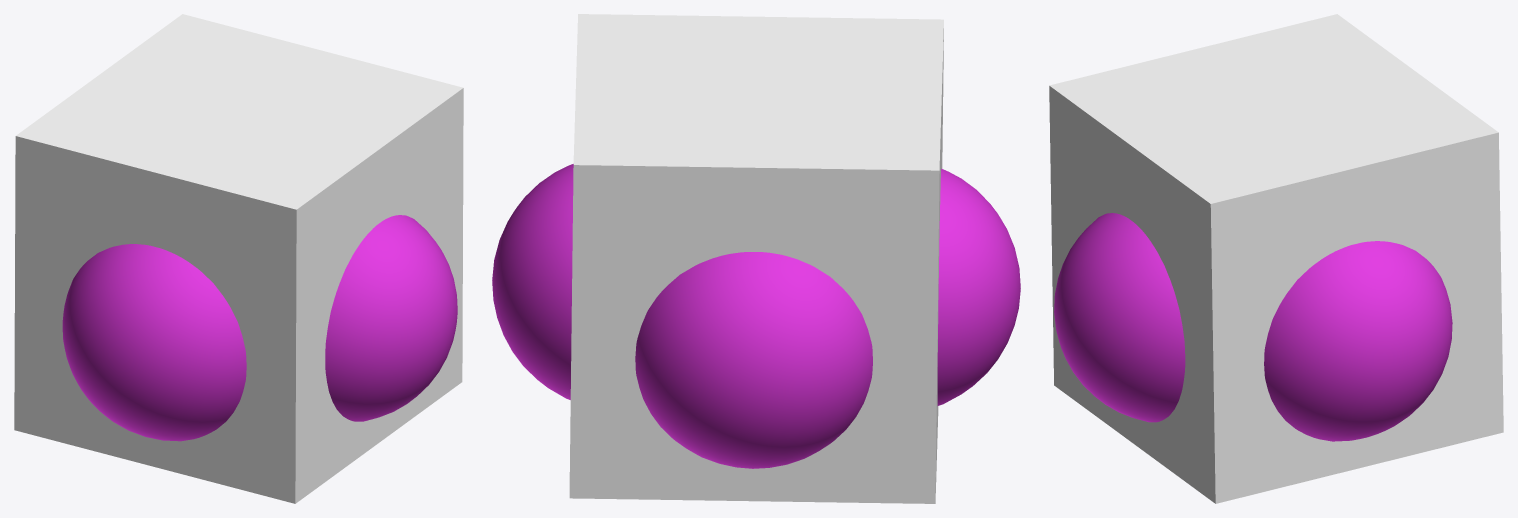
Rendered from xxx.glb.
The picture shows the model from 3 angles, left to right: view 1: azimuth 30°, elevation 25°; view 2: azimuth 150°, elevation 25°; view 3: azimuth 270°, elevation 25°; orthographic projection. The views are drawn at different scales.
Parts seen in each view (by area): view 1: 立方体, 棱角球, 棱角球.003; view 2: 立方体, 棱角球.001, 棱角球, 棱角球.002; view 3: 立方体, 棱角球.002, 棱角球.003.
Boxes of the visible parts, x1=… form: 立方体: x1=14, y1=14, x2=463, y2=503; 棱角球: x1=62, y1=244, x2=246, y2=441; 棱角球.003: x1=325, y1=215, x2=457, y2=421; 立方体: x1=569, y1=14, x2=943, y2=503; 棱角球.001: x1=635, y1=252, x2=872, y2=468; 棱角球: x1=937, y1=168, x2=1020, y2=405; 棱角球.002: x1=492, y1=164, x2=573, y2=399; 立方体: x1=1049, y1=14, x2=1503, y2=503; 棱角球.002: x1=1264, y1=241, x2=1452, y2=441; 棱角球.003: x1=1054, y1=213, x2=1185, y2=422.
Size of what is drawn, in the model's own units: 2.73 by 2.04 by 2.75.
